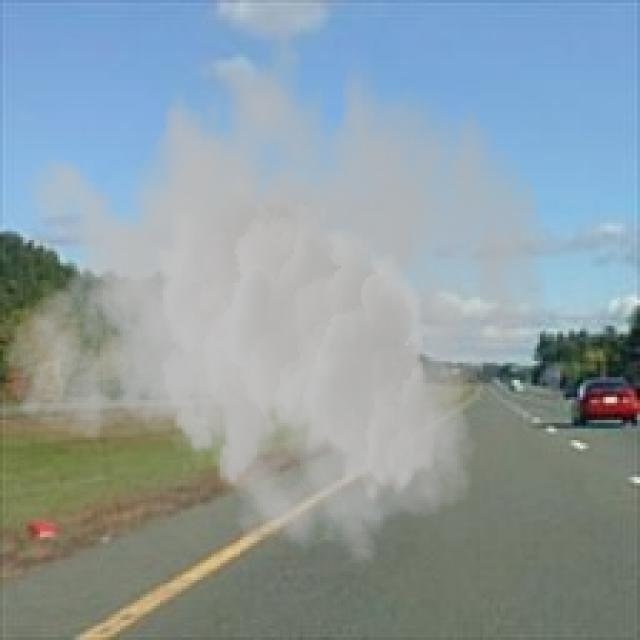Smoke: (2, 3, 548, 566)
